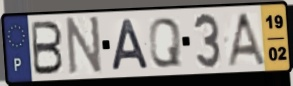3: (192, 11, 222, 71)
A: (224, 11, 268, 68), (109, 17, 152, 72)
B: (30, 20, 65, 77)
N: (66, 14, 104, 77)
Q: (147, 16, 183, 70)
